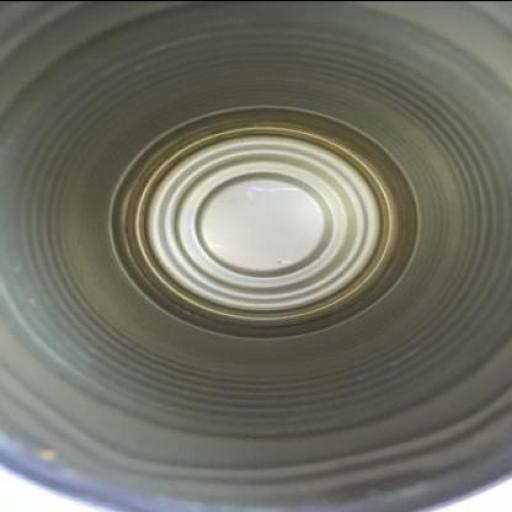metal: (0, 1, 512, 511)
